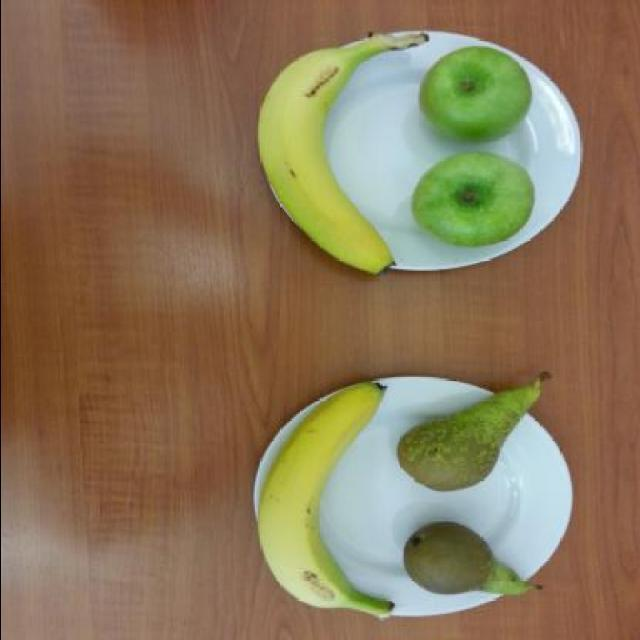Pear: (396, 386, 542, 490), (403, 519, 532, 598)
